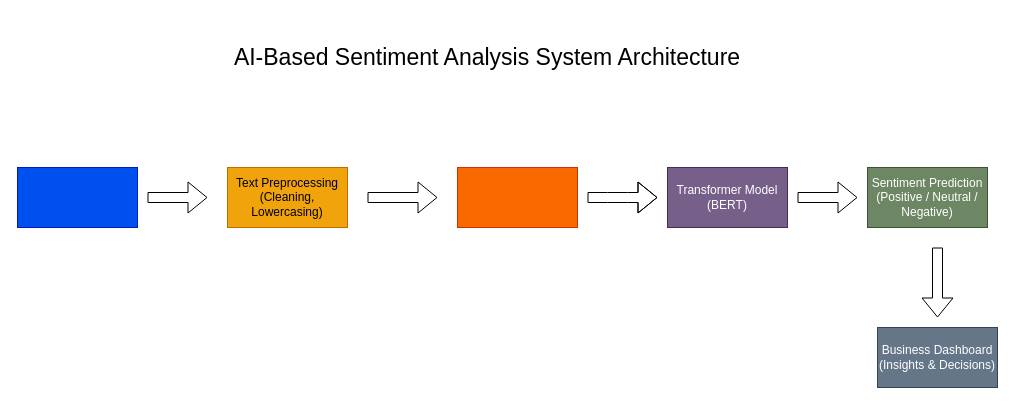
This 1015x405 diagram has some shape labels left out. Each missing label, with the centre of its shape:
"Customer Reviews (Input Data)" goes at (77,197).
"Tokenization & Encoding (Text → Numbers)" goes at (517,197).
